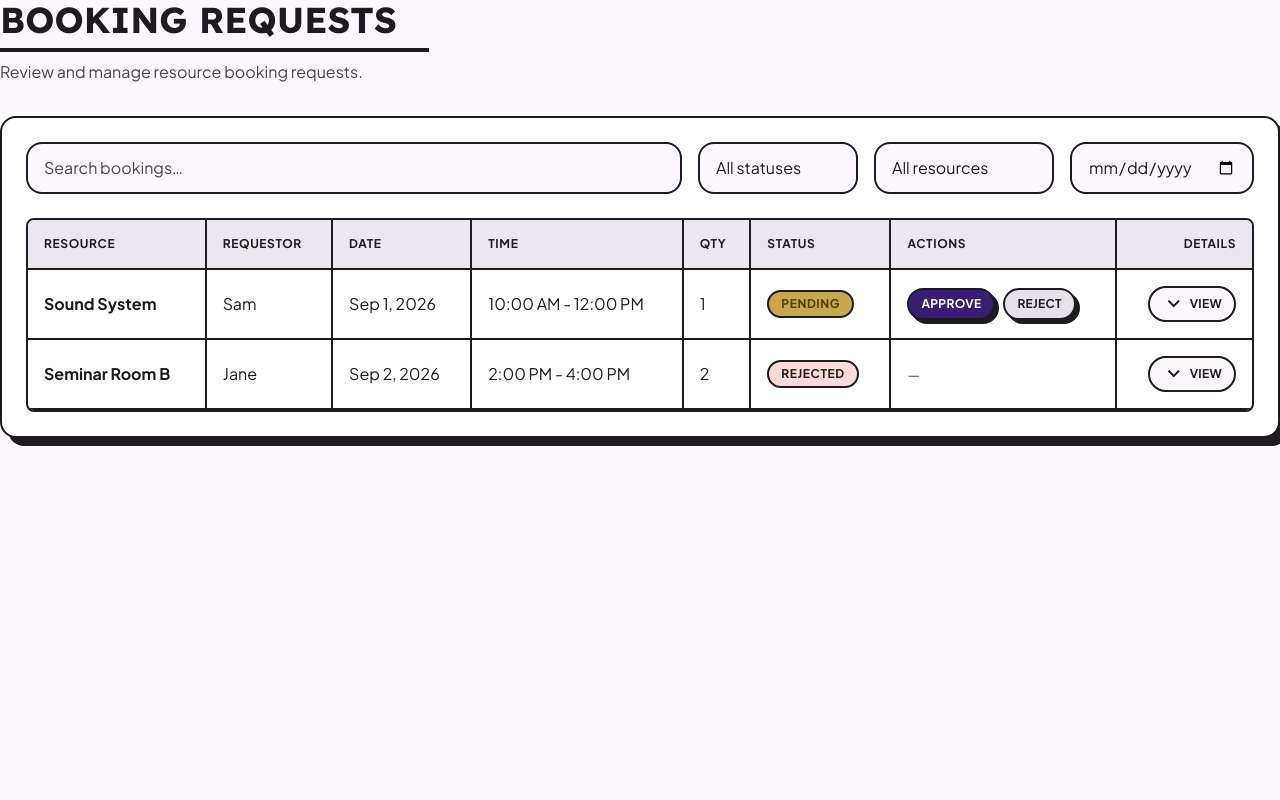
Test case: AdminBookingsPage › rejects a pending booking with a reason
Click the button "Reject": [1040, 304] box [1003, 288, 1076, 320]
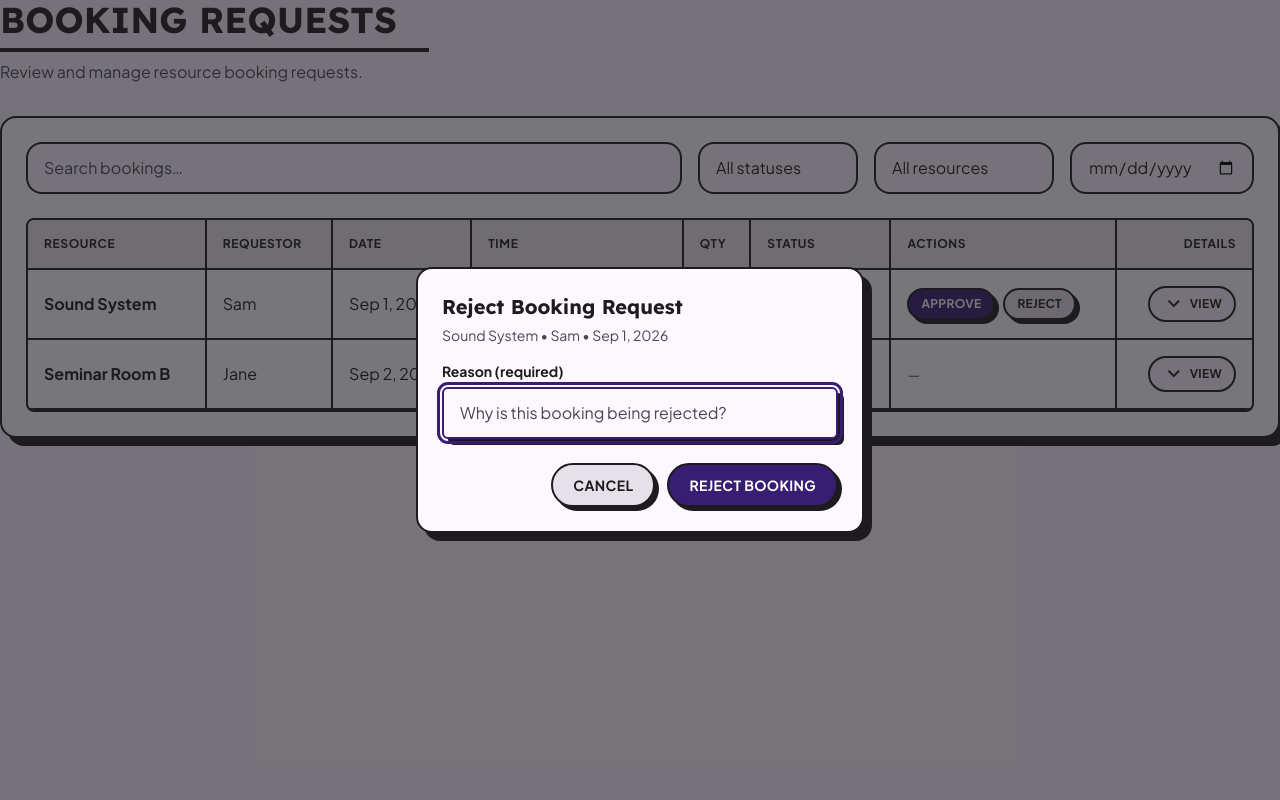
Result: the dialog is shown
In the field labelled "Reason (required)": [640, 413] box [442, 387, 838, 439], type "Capacity already filled"
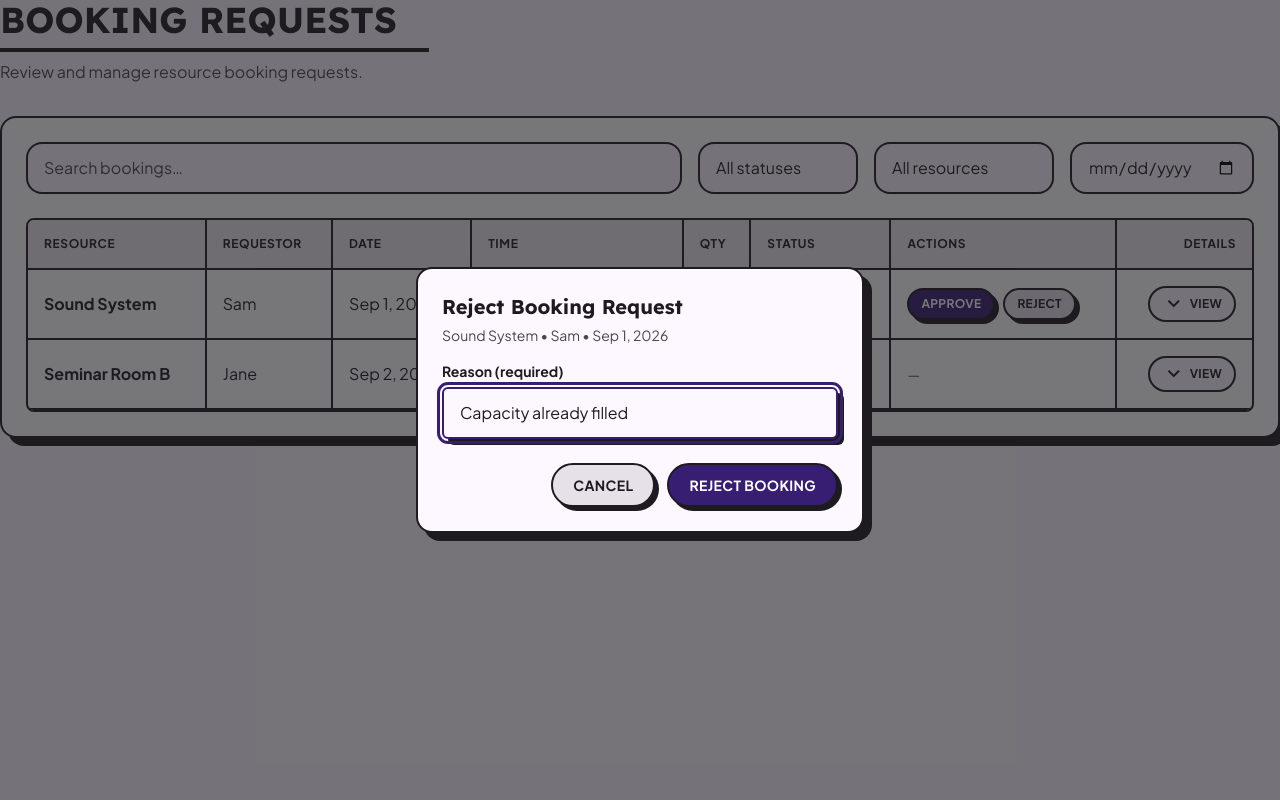
Click the button "Reject Booking": [753, 485] box [667, 463, 838, 507]
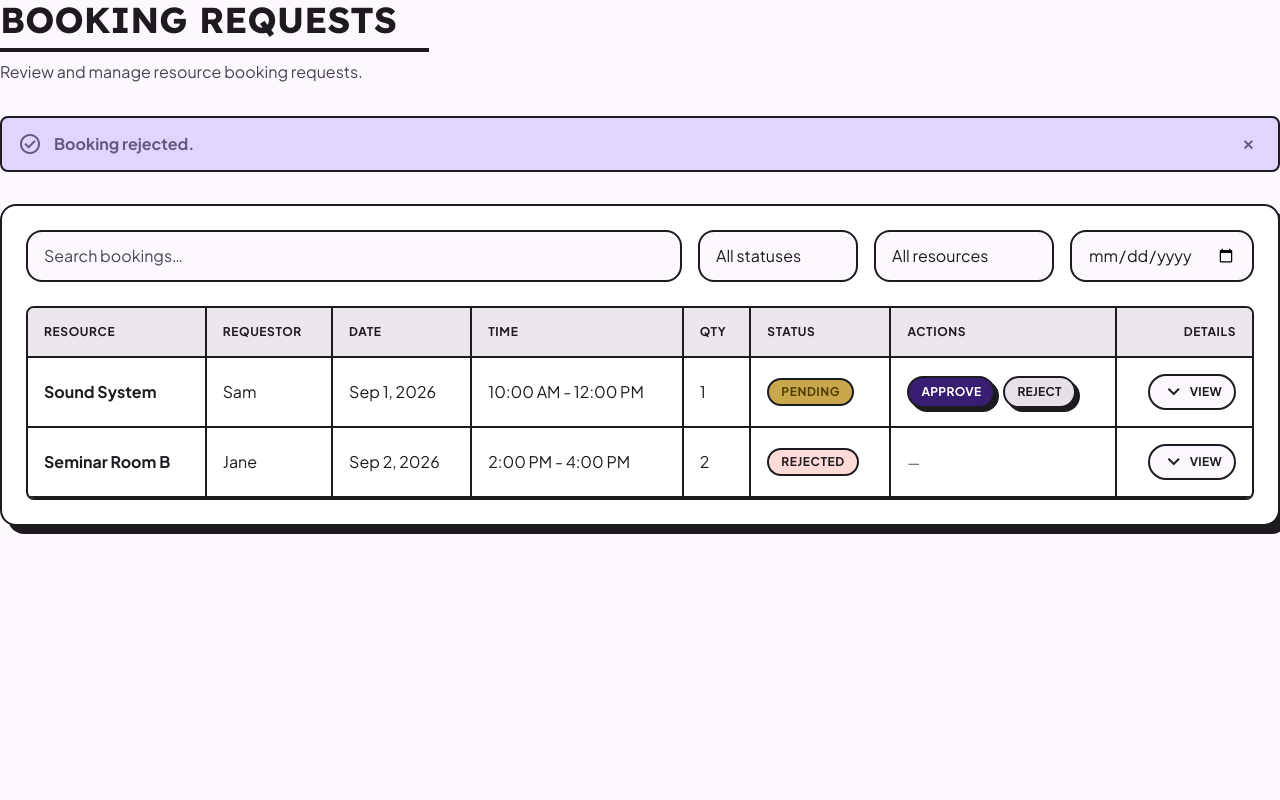
Result: the text "Booking rejected." is shown at [54, 132, 194, 156]
